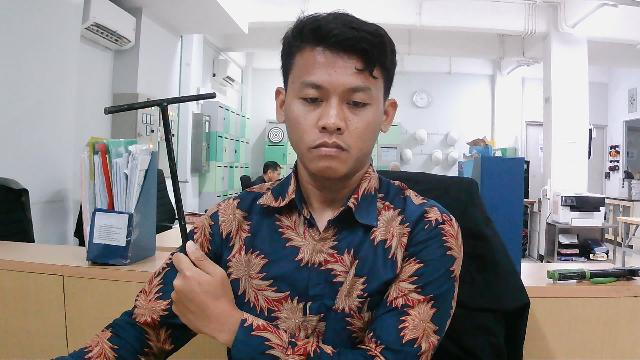kunci_t: (95, 81, 247, 337)
